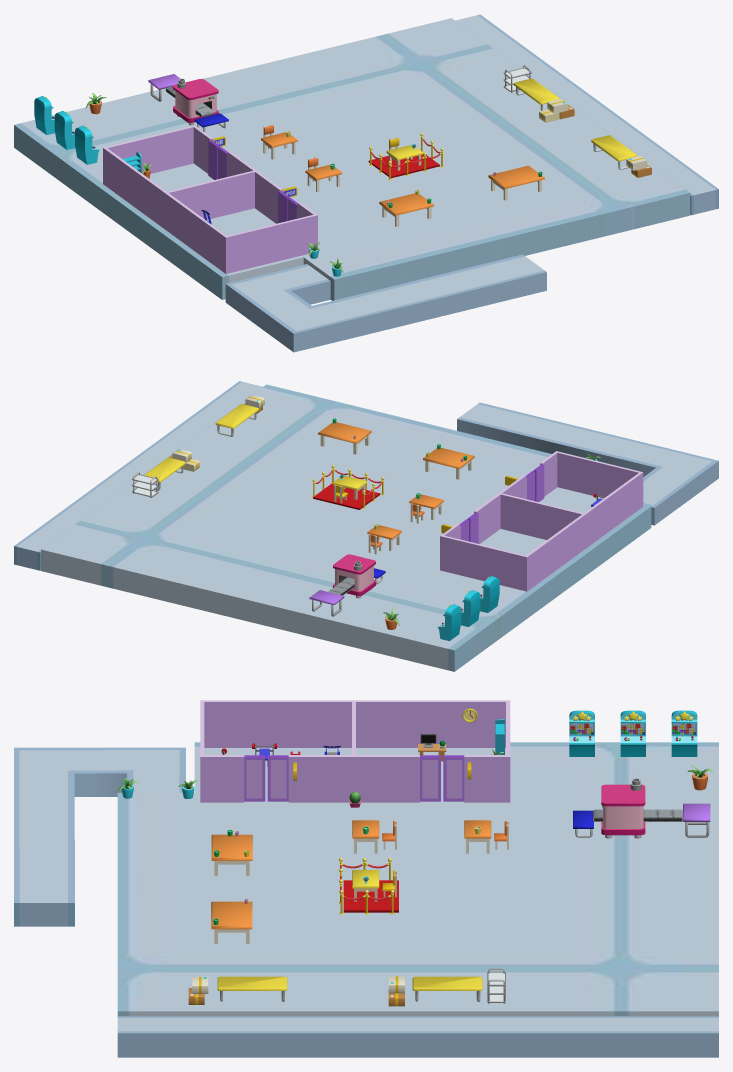
The model's file is PT_map_pizza.fbx.
The picture shows the model from 3 angles, top to bottom: view 1: azimuth 30°, elevation 25°; view 2: azimuth 150°, elevation 25°; view 3: azimuth 270°, elevation 25°; orthographic projection. The views are drawn at different scales.
Parts seen in each view (by area): view 1: platform, room, 8.slot machine.001, machine.003, gift wrap table, separator, big table.001, big table; view 2: platform, room, 8.slot machine.001, machine.003, separator, gift wrap table, big table.001, big table, simplePipe3.001; view 3: platform, room, 8.slot machine.001, machine.003, gift wrap table, separator, big table.001, big table, room.003, room.004, room.005, room.006 (+6 smaller).
Part boxes in pixels (bbox=[...]): platform: bbox=[14, 14, 718, 352]; room: bbox=[103, 125, 317, 273]; 8.slot machine.001: bbox=[34, 96, 99, 164]; machine.003: bbox=[173, 78, 218, 125]; gift wrap table: bbox=[513, 78, 637, 169]; separator: bbox=[368, 133, 443, 180]; big table.001: bbox=[488, 165, 544, 200]; big table: bbox=[379, 190, 433, 226]; platform: bbox=[14, 381, 718, 671]; room: bbox=[440, 451, 643, 591]; 8.slot machine.001: bbox=[438, 576, 499, 640]; machine.003: bbox=[333, 554, 375, 598]; separator: bbox=[312, 465, 384, 509]; gift wrap table: bbox=[144, 404, 258, 490]; big table.001: bbox=[318, 418, 371, 454]; big table: bbox=[423, 444, 474, 479]; simplePipe3.001: bbox=[132, 472, 158, 497]; platform: bbox=[14, 742, 718, 1057]; room: bbox=[200, 700, 510, 802]; 8.slot machine.001: bbox=[569, 710, 697, 756]; machine.003: bbox=[601, 778, 645, 838]; gift wrap table: bbox=[217, 976, 482, 1001]; separator: bbox=[339, 857, 398, 914]; big table.001: bbox=[211, 899, 252, 943]; big table: bbox=[211, 830, 252, 875]; room.003: bbox=[443, 755, 464, 801]; room.004: bbox=[244, 755, 265, 801]; room.005: bbox=[267, 755, 288, 801]; room.006: bbox=[420, 755, 440, 801].
Bounding box in the file's own units: 64.24 × 7.79 × 66.78.
